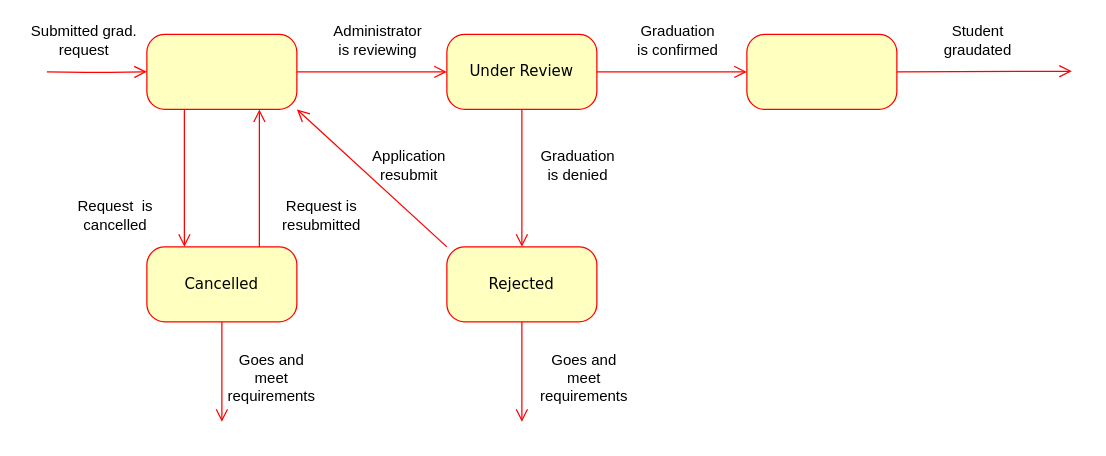
Some shapes in this 1106 by 456 pixel diagram are drawn without their labels. The centre of each missing label's shape, as x and y in pixels:
"Approved" goes at pixel 821 71.
"Submitted" goes at pixel 221 71.
